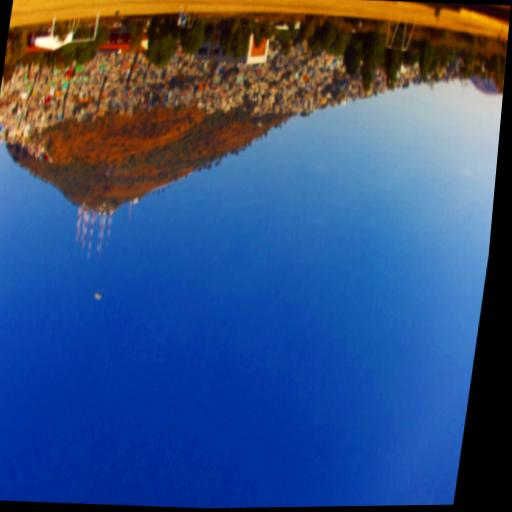drones: (87, 285, 109, 310)
